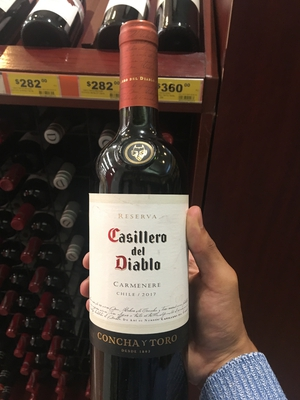casillero del diablo carmenere: (78, 27, 196, 391)
